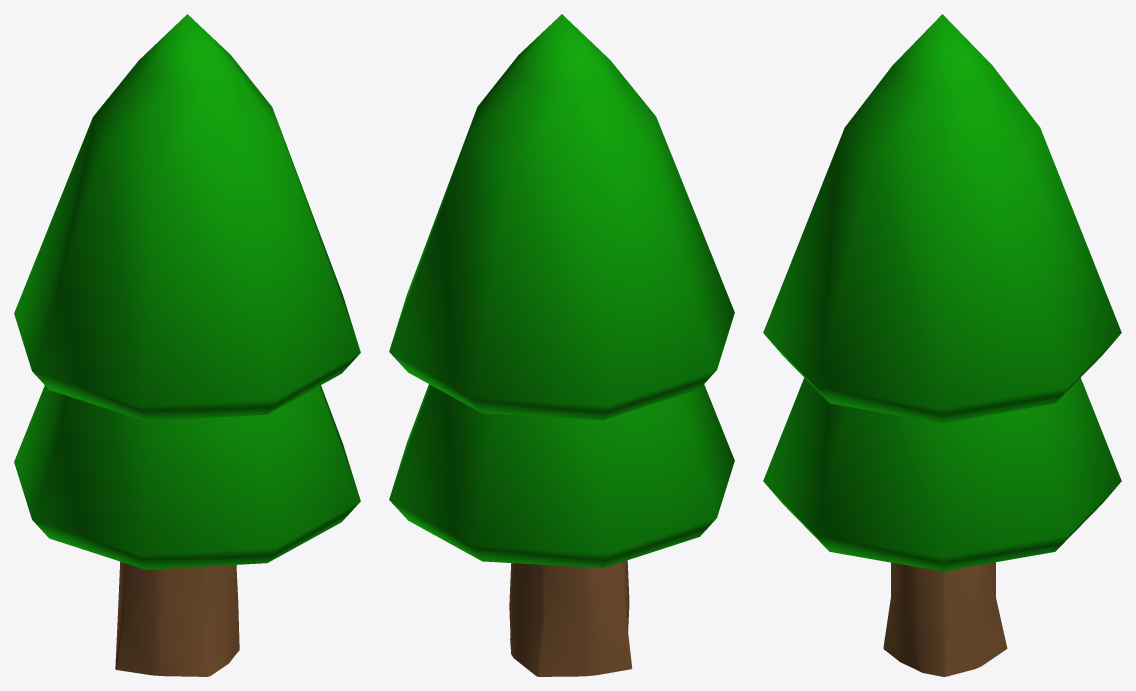
The model's file is Arbol 1.fbx.
The picture shows the model from 3 angles, left to right: view 1: azimuth 30°, elevation 25°; view 2: azimuth 150°, elevation 25°; view 3: azimuth 270°, elevation 25°; orthographic projection.
Visible parts, largest first — view 1: Cylinder.004, Cylinder.003, Cylinder.001; view 2: Cylinder.004, Cylinder.003, Cylinder.001; view 3: Cylinder.004, Cylinder.003, Cylinder.001.
Part boxes in pixels (x1=…): Cylinder.004: x1=14, y1=14, x2=360, y2=421; Cylinder.003: x1=14, y1=385, x2=360, y2=569; Cylinder.001: x1=115, y1=561, x2=239, y2=676; Cylinder.004: x1=389, y1=14, x2=734, y2=419; Cylinder.003: x1=389, y1=384, x2=734, y2=568; Cylinder.001: x1=509, y1=560, x2=632, y2=676; Cylinder.004: x1=763, y1=14, x2=1121, y2=423; Cylinder.003: x1=763, y1=378, x2=1121, y2=571; Cylinder.001: x1=883, y1=562, x2=1007, y2=676.
Size of the model in its own units: 133 by 261 by 133.
